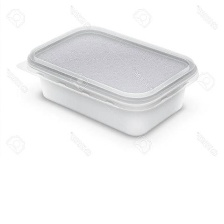plastic_box: (20, 19, 205, 145)
